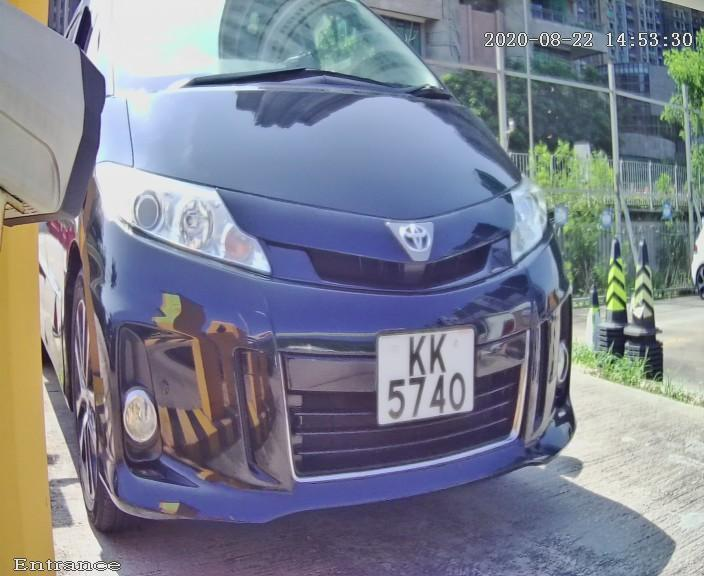License Plate: (371, 312, 484, 438)
